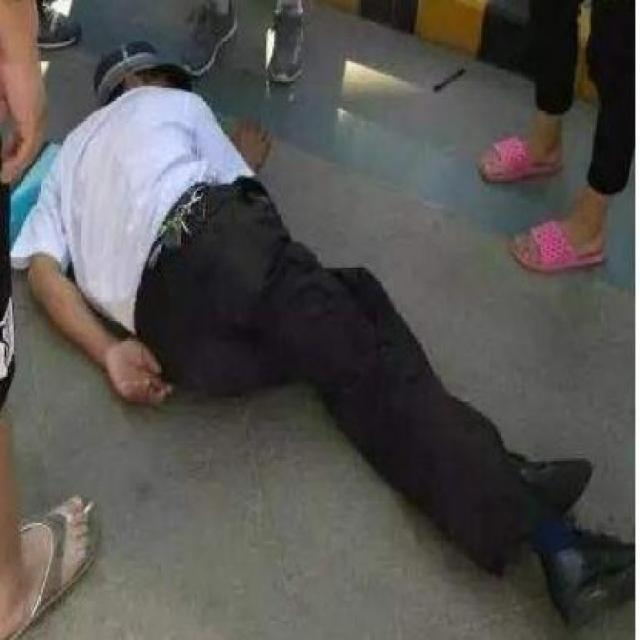fall: (25, 15, 602, 627)
